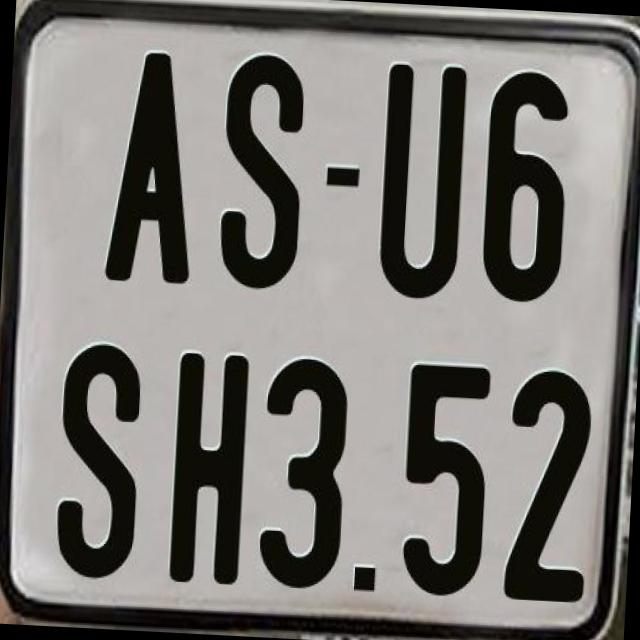2: (500, 366, 592, 610)
3: (253, 357, 351, 600)
5: (399, 358, 497, 600)
6: (478, 68, 570, 307)
A: (104, 46, 200, 282)
H: (165, 350, 248, 585)
S: (213, 52, 310, 299), (51, 337, 147, 584)
U: (374, 59, 468, 297)
